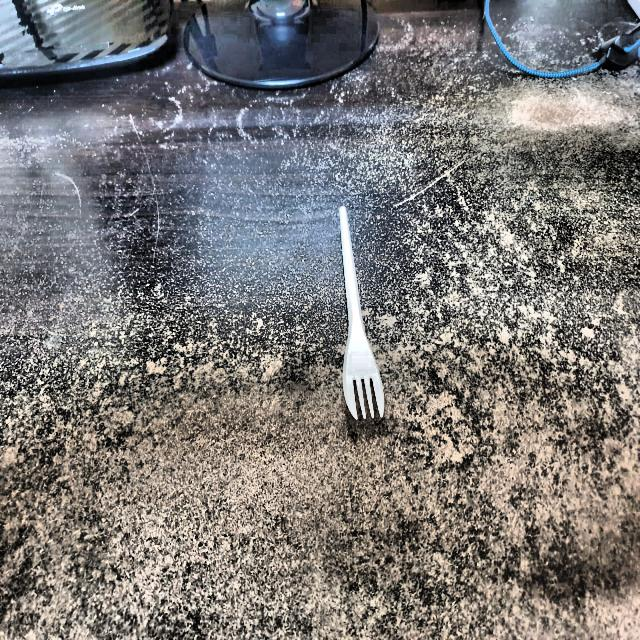plastic utensil: (338, 198, 388, 426)
